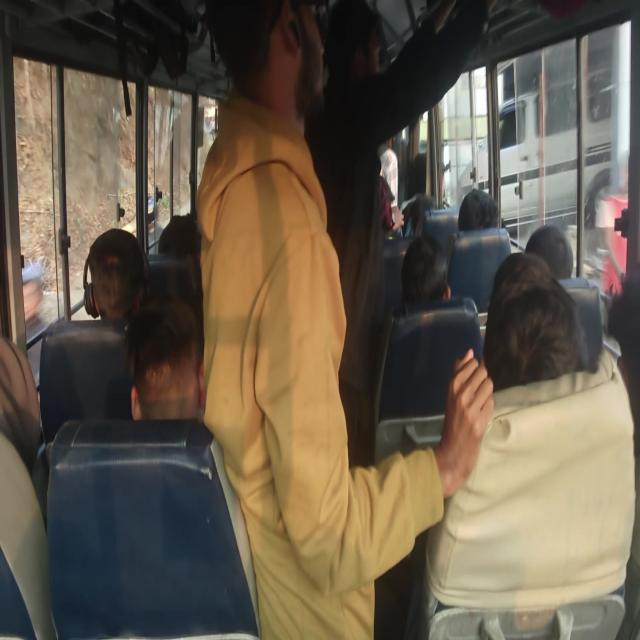person: (224, 0, 336, 137), (0, 335, 63, 578), (136, 310, 223, 438), (68, 223, 154, 340), (510, 265, 580, 379), (326, 0, 387, 92), (535, 216, 569, 308), (457, 184, 492, 231), (157, 205, 189, 256), (409, 258, 443, 297), (423, 155, 444, 200)
